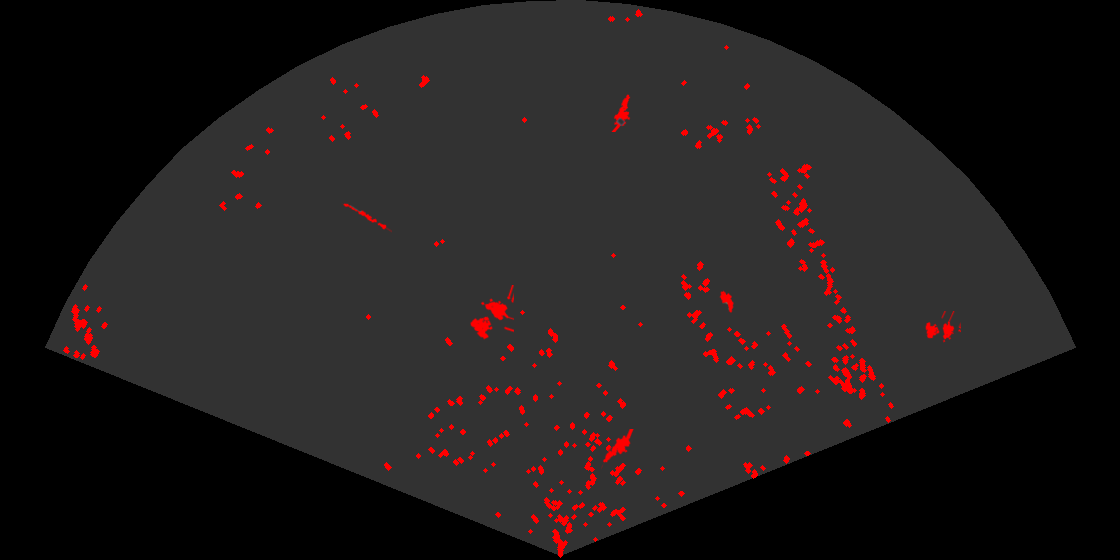AUV: (718, 289, 735, 314)
cage: (469, 285, 514, 341), (924, 311, 961, 344)
chain: (341, 202, 392, 234)
frogman: (601, 429, 635, 470), (610, 93, 632, 132)
